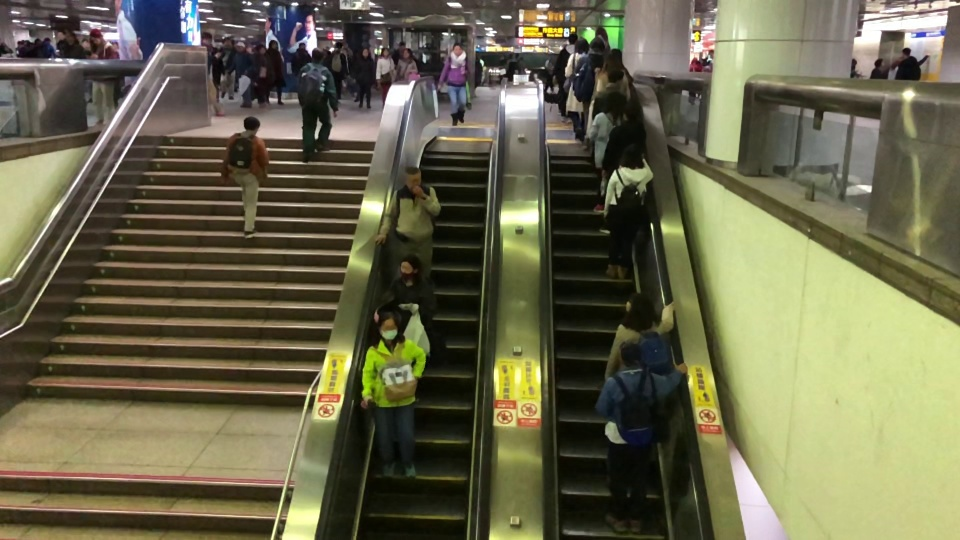person_head: (375, 309, 404, 344), (398, 253, 424, 284), (617, 339, 643, 370), (625, 290, 649, 319), (619, 141, 644, 168), (605, 91, 626, 116), (403, 166, 421, 191), (602, 51, 621, 71), (242, 115, 260, 134), (88, 27, 105, 45), (588, 36, 605, 53), (620, 102, 636, 120), (310, 46, 325, 64), (574, 36, 589, 54), (200, 30, 213, 46), (451, 41, 464, 55), (268, 39, 280, 50), (874, 57, 885, 69), (402, 47, 412, 59), (568, 32, 578, 44), (901, 46, 911, 58), (235, 41, 245, 52), (257, 43, 267, 54), (333, 40, 343, 51), (380, 47, 390, 56), (361, 46, 369, 57), (298, 42, 306, 50)
person_vbox: (592, 338, 689, 535), (360, 313, 428, 478), (371, 166, 441, 289), (380, 251, 437, 401), (603, 289, 677, 386), (602, 141, 654, 278), (597, 105, 646, 234), (220, 116, 269, 238), (584, 51, 630, 164), (586, 90, 628, 213), (295, 47, 339, 164), (572, 36, 607, 141), (436, 39, 473, 126), (87, 28, 118, 125), (561, 36, 589, 134), (199, 31, 226, 116), (552, 31, 575, 124), (226, 41, 255, 108), (252, 44, 277, 108), (353, 47, 376, 109), (325, 41, 349, 100), (376, 46, 397, 109), (267, 39, 287, 105), (894, 46, 930, 82), (290, 42, 314, 80), (393, 47, 418, 83), (869, 56, 890, 80)
